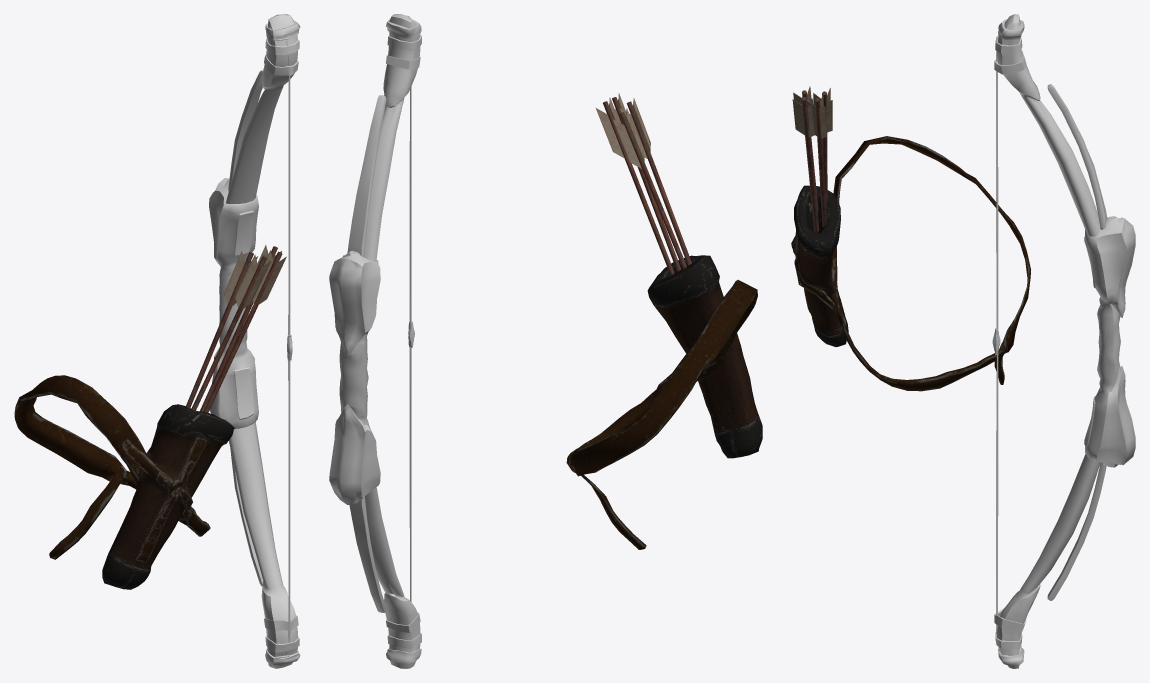
File: bow.fbx
3 renders of one model, left to right at view 1: azimuth 30°, elevation 25°; view 2: azimuth 150°, elevation 25°; view 3: azimuth 270°, elevation 25°, orthographic.
Visible parts, largest first — view 1: Archer.013, Archer.007; view 2: Archer.007, Archer.013; view 3: Archer.007, Archer.013.
Boxes of the visible parts, x1=… form: Archer.013: x1=14, y1=245, x2=286, y2=589; Archer.007: x1=209, y1=14, x2=300, y2=668; Archer.007: x1=329, y1=14, x2=421, y2=668; Archer.013: x1=566, y1=93, x2=762, y2=549; Archer.007: x1=992, y1=14, x2=1135, y2=668; Archer.013: x1=791, y1=86, x2=1030, y2=391.
Bounding box in the file's own units: 71.39 × 144 × 69.31.
